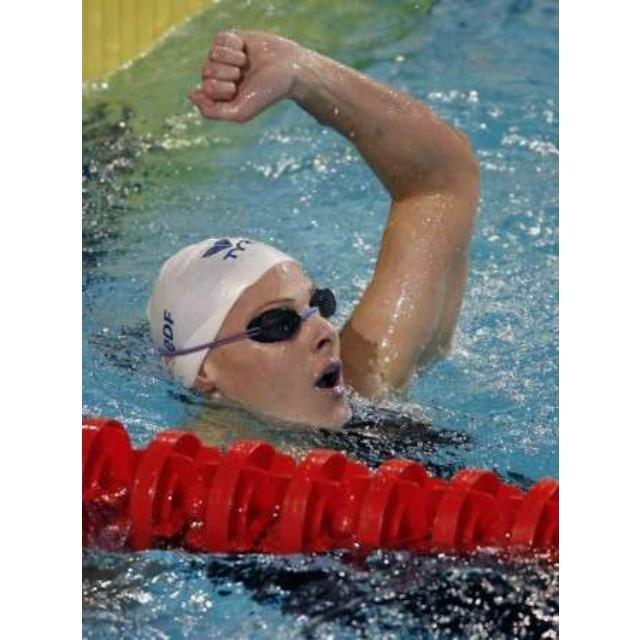human: (154, 17, 483, 433)
